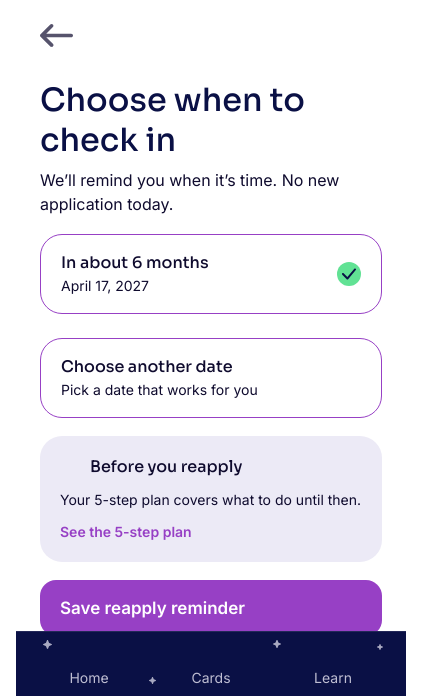
ReminderSetup › refuses a typed date past the one-year limit the date picker suggests
Click the button "Choose another date Pick a date that works for you" at (211, 378), box [40, 338, 382, 418]
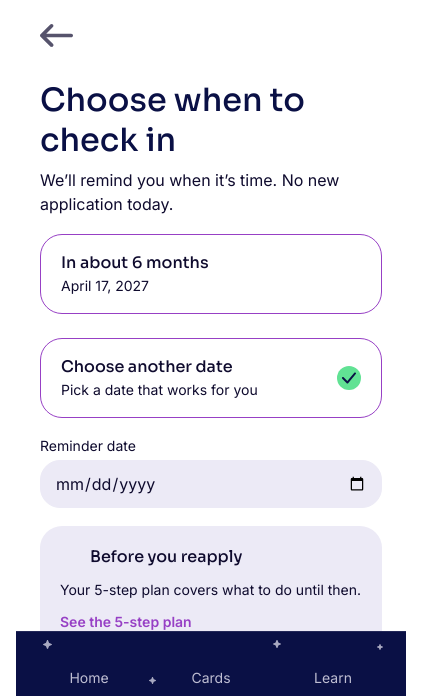
Type "2027-10-18" into the date field labelled "Reminder date" at (211, 484), box [40, 460, 382, 508]
(page scrolled)
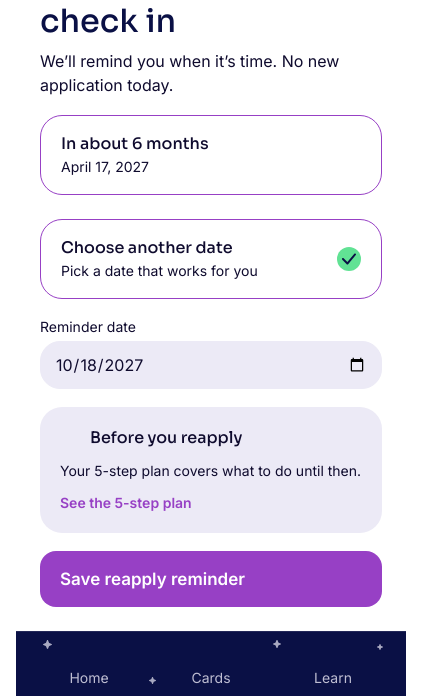
Click the button "Save reapply reminder" at (211, 579), box [40, 551, 382, 607]
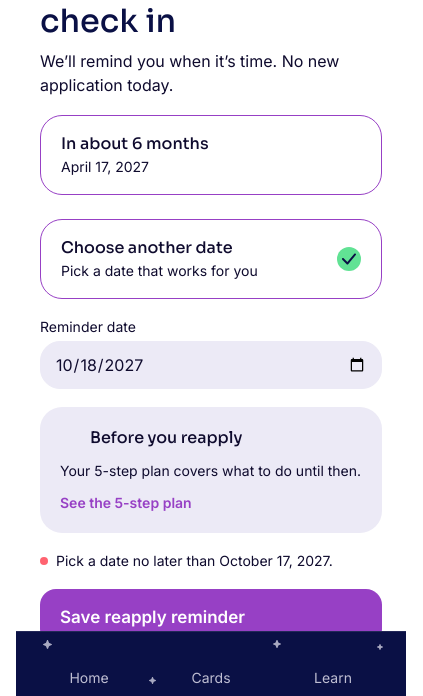
Check: the message reads "Pick a date no later than October 17, 2027.", box [56, 552, 333, 569]
